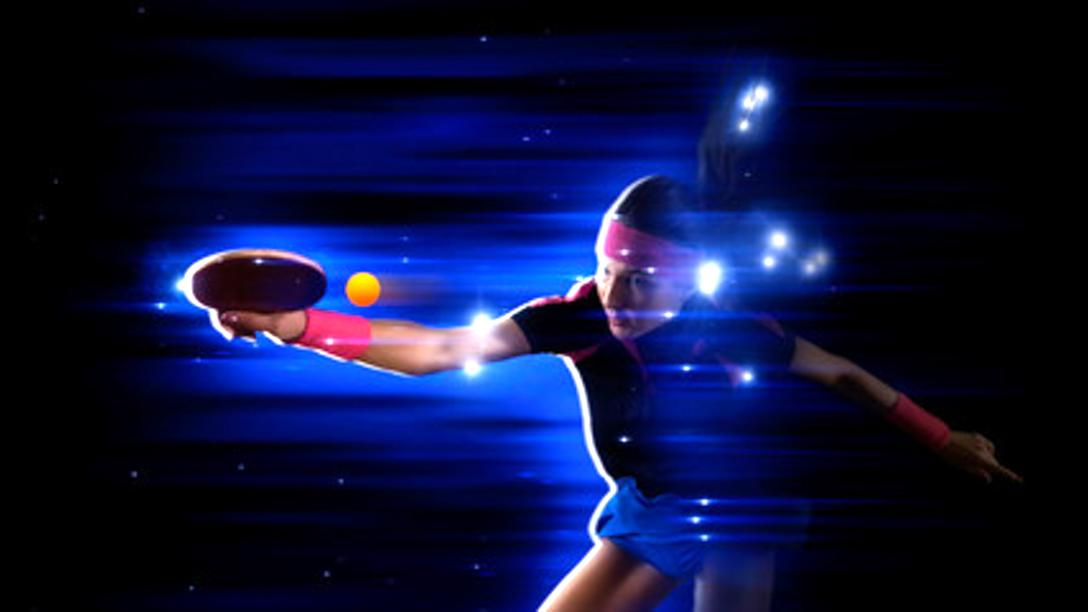Table-Tennis-Ball: (348, 272, 380, 306)
